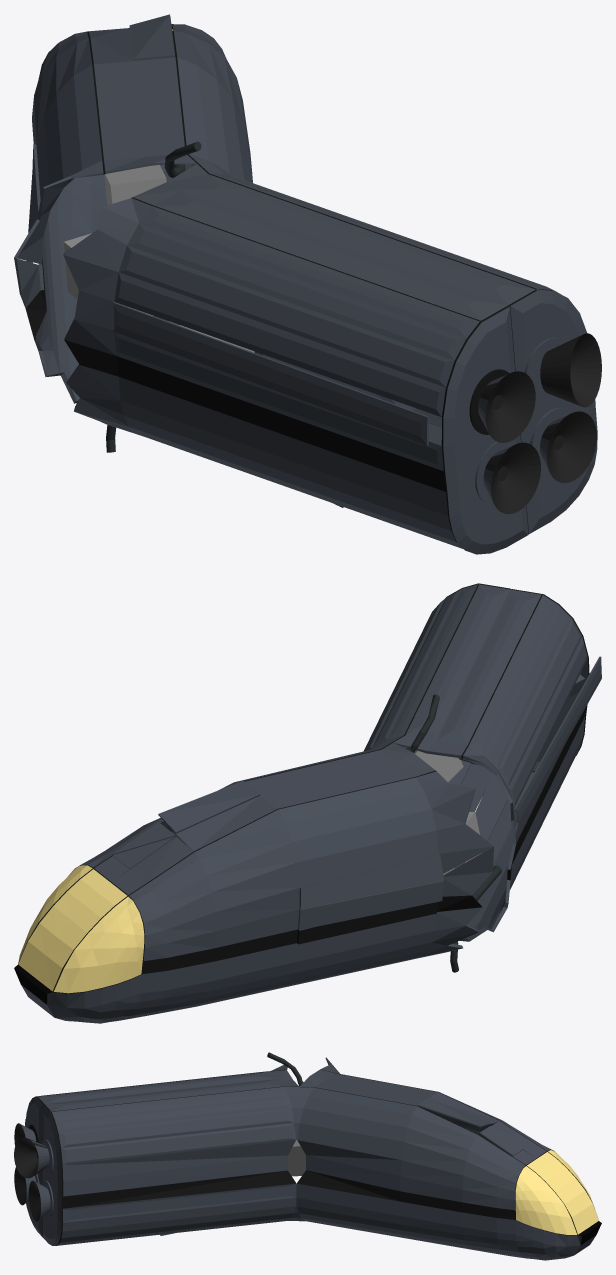
File: medium_wreck.glb
3 renders of one model, top to bottom at view 1: azimuth 30°, elevation 25°; view 2: azimuth 150°, elevation 25°; view 3: azimuth 270°, elevation 25°, orthographic. The views are drawn at different scales.
Visible parts, largest first — view 1: wreck_mesh; view 2: wreck_mesh; view 3: wreck_mesh.
Boxes of the visible parts, x1,y1,x2,y2 form: wreck_mesh: (14,14,601,554); wreck_mesh: (14,583,601,1023); wreck_mesh: (14,1052,601,1260).
Bounding box in the file's own units: 7.15 × 5.49 × 16.58.
